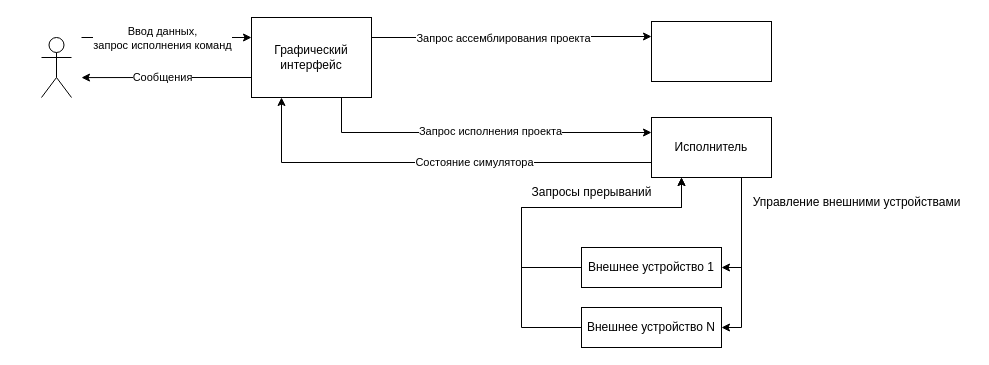
This 989x365 diagram has some shape labels left out. The centre of each missing label's shape, as x and y in pixels:
"Ассемблер" goes at (711,51).
"Пользователь" goes at (56,67).
